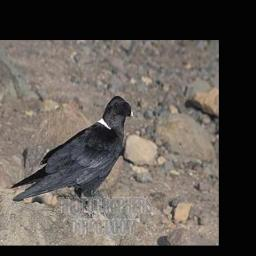Crow: (8, 95, 136, 222)
